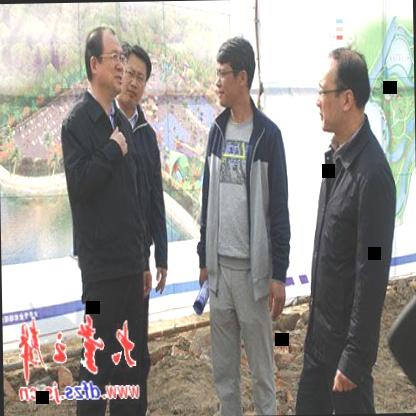head: (313, 42, 372, 138), (212, 30, 258, 112), (84, 20, 124, 98), (121, 44, 154, 106)
